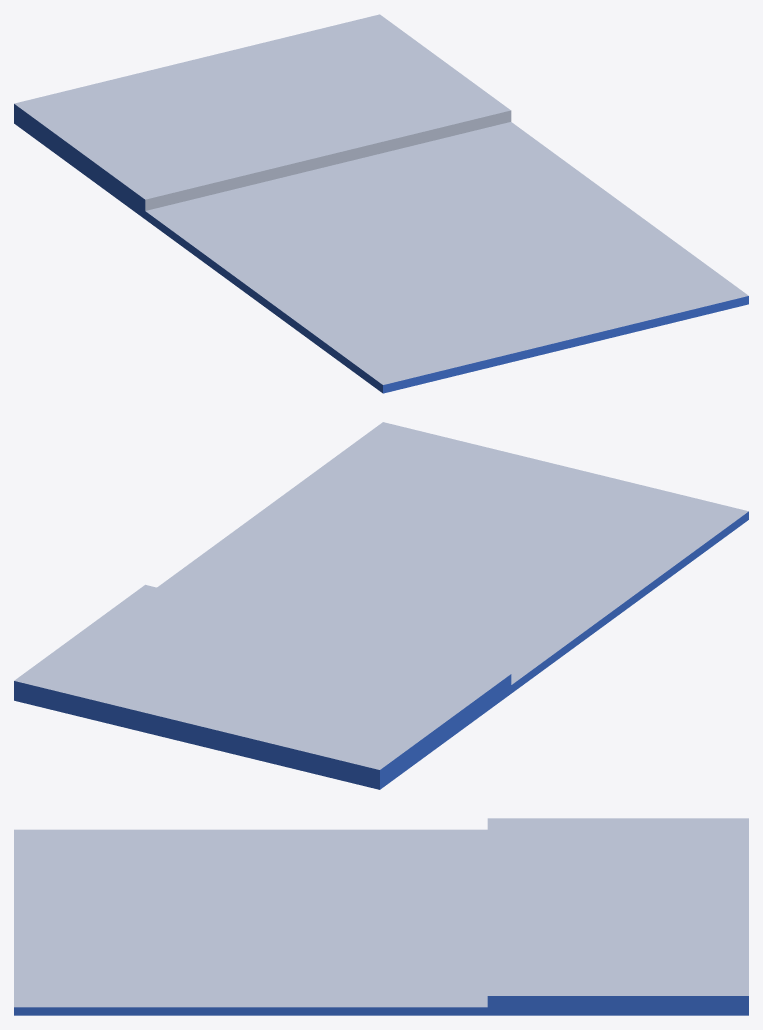
Rendered from iglesia4.glb.
3 views of the same model, one above another, from view 1: azimuth 30°, elevation 25°; view 2: azimuth 150°, elevation 25°; view 3: azimuth 270°, elevation 25° (orthographic).
Parts seen in each view (by area): view 1: Cube; view 2: Cube; view 3: Cube.
Boxes of the visible parts, <box> form: Cube: <box>14,14,748,393</box>; Cube: <box>14,422,748,789</box>; Cube: <box>14,818,748,1015</box>.
Size of the model in its own units: 52.42 by 2.72 by 91.59.
